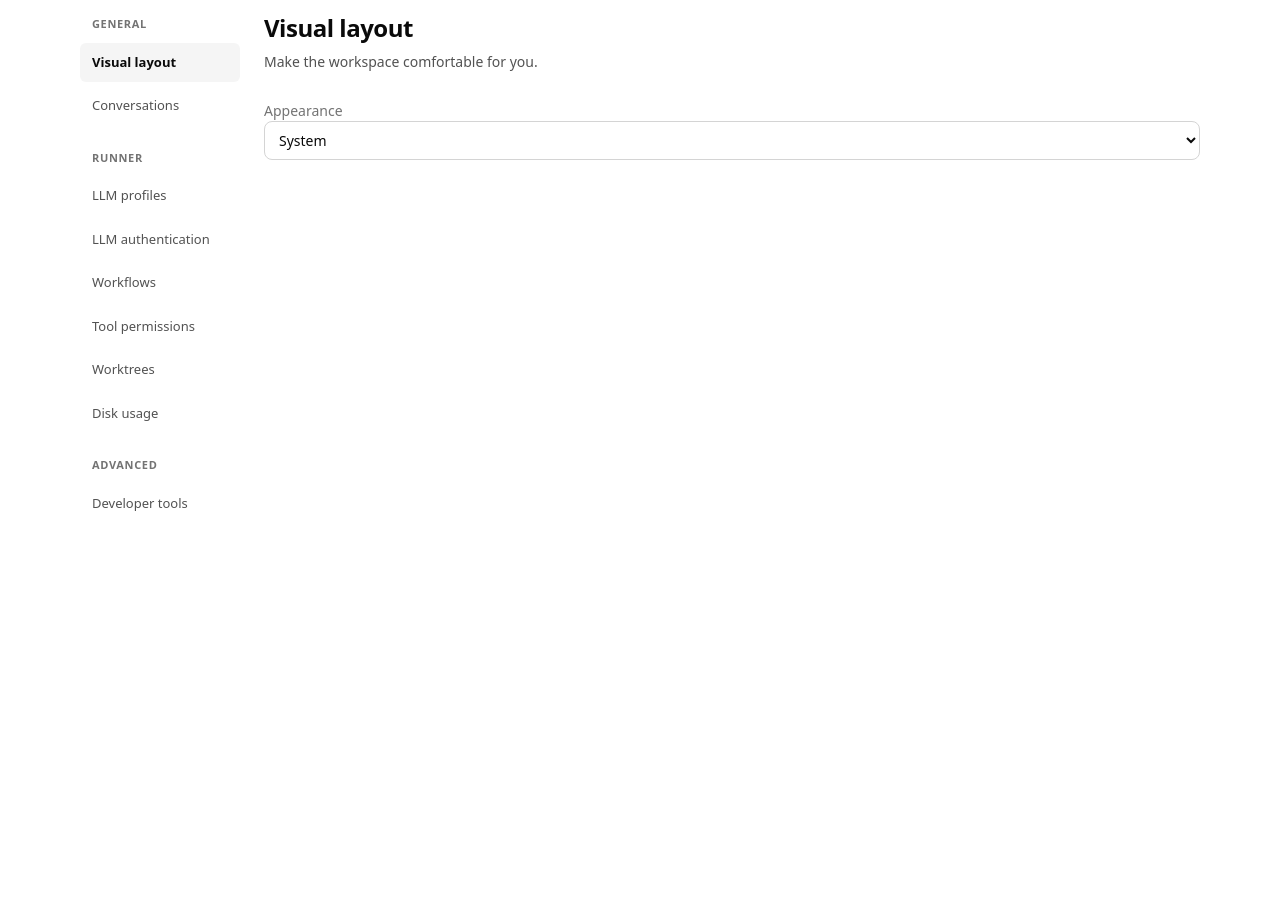
it: missing settings explain the built-in allowlist without writing defaults
This screenshot has width=1280, height=912.
Click the button "Workflows": coordinates (160, 283) [80, 263, 240, 302]
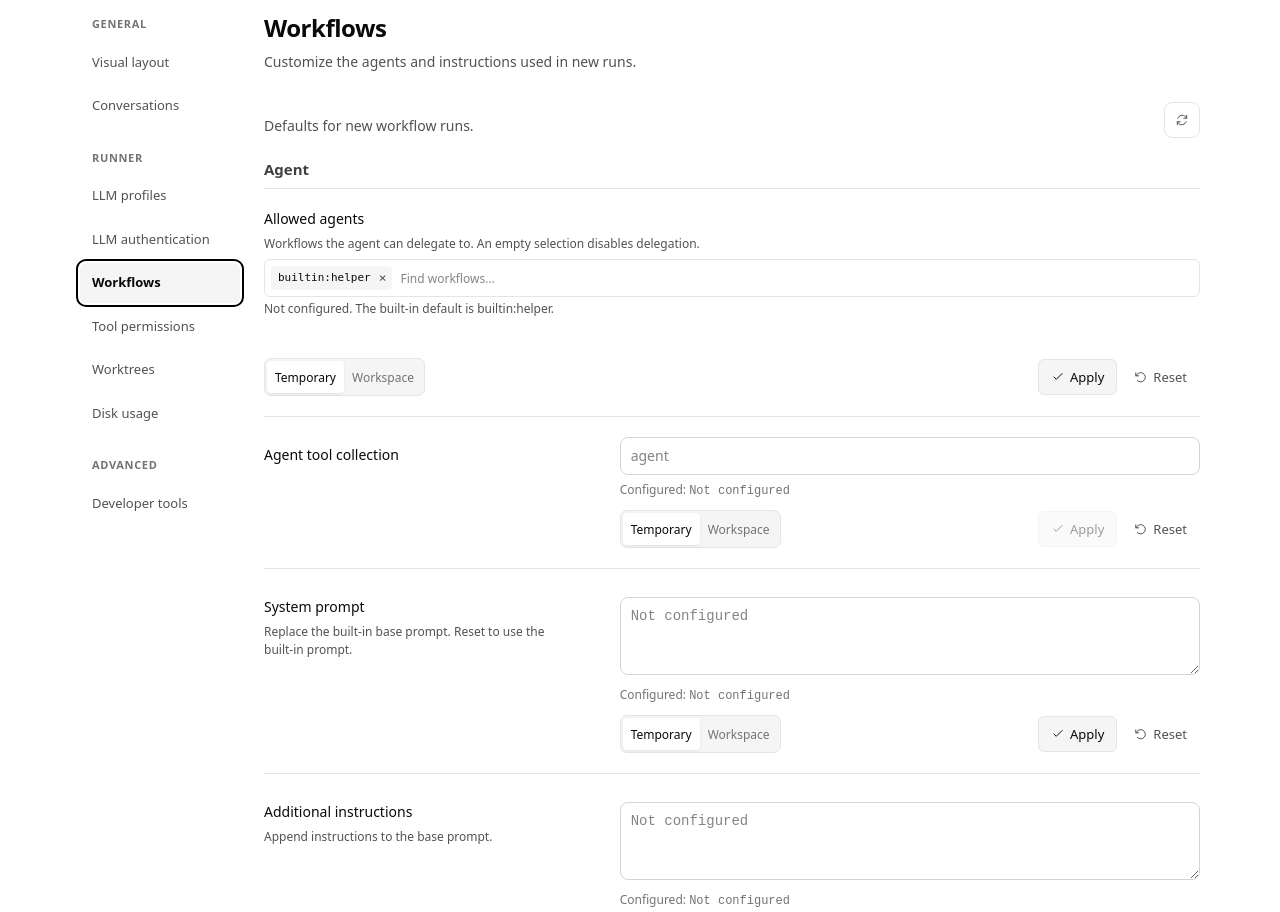
Check: the form named "Edit Allowed agents" is shown, box [264, 189, 1200, 417]
Check: the text "Not configured. The built-in default is builtin:helper." is shown, box [264, 300, 554, 317]
Check: the button named "Remove builtin:helper" is shown, box [374, 266, 392, 290]
